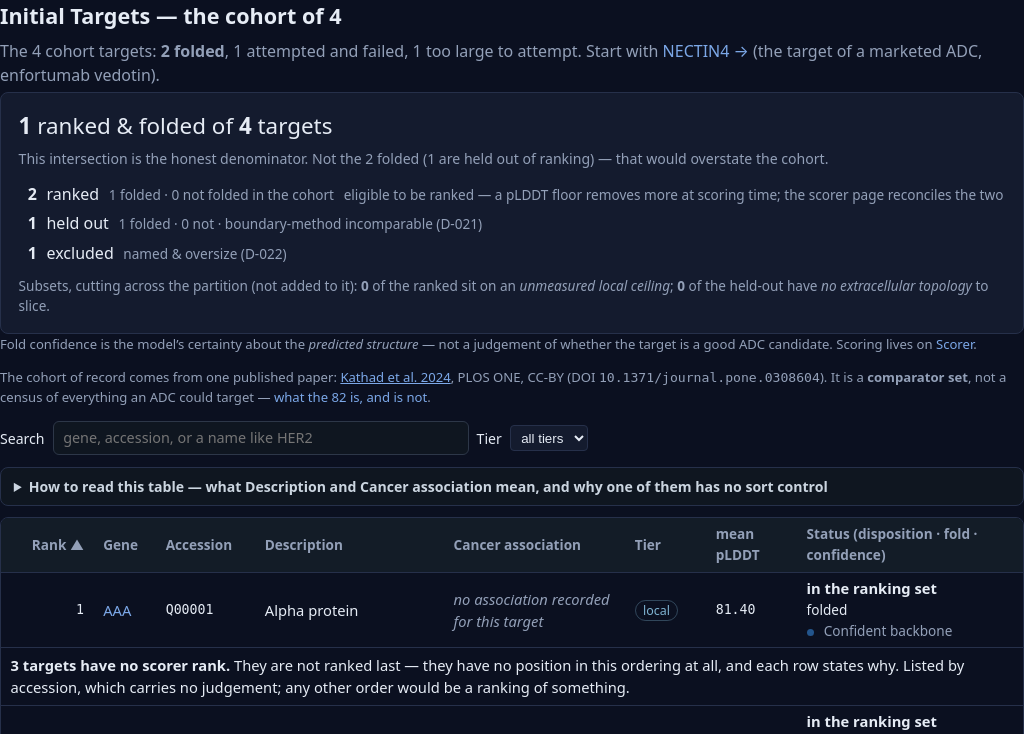
D-155 · one table for one population › states the cohort denominator and leaves it alone when the table is filtered
The image size is (1024, 734).
Expected: the element with class "status-cell" that starts with "in the ranking set" is shown, [806,578,952,640]
Expected: the element with class "coverage-headline" shows "1 ranked & folded of 4", [19,110,332,141]
Type "AAA" into the search field labelled "Search".
click(261, 438); type("AAA")  # box [53,421,469,456]
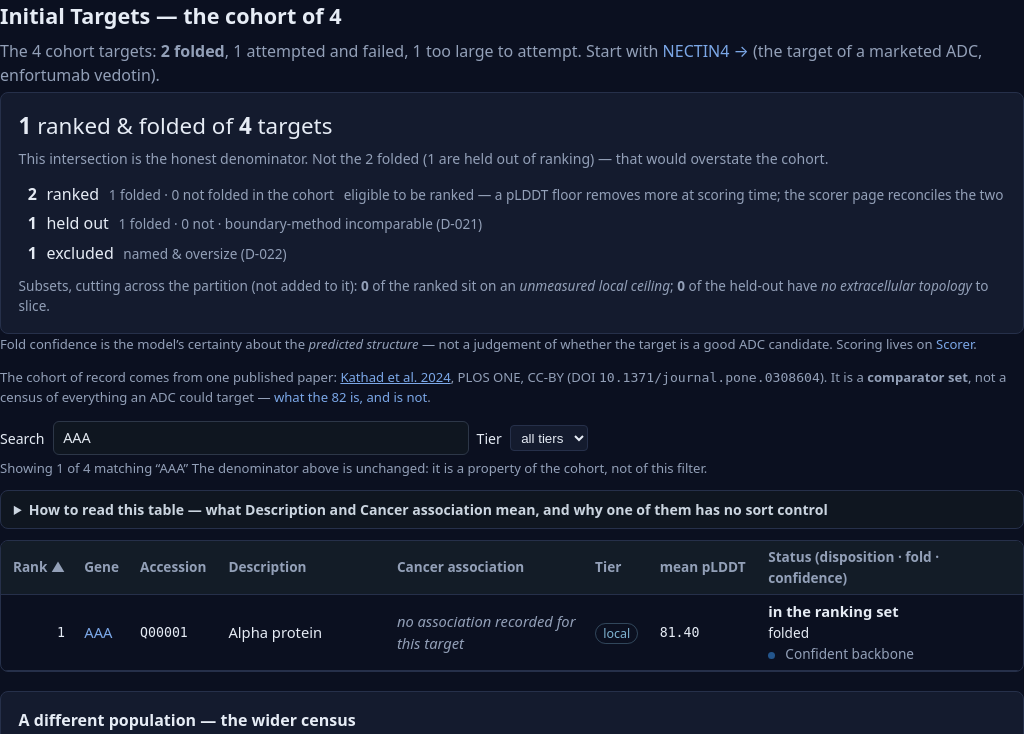
Result: the text with class "filter-count" shows "denominator above is unchanged" at [192,459,707,477]
